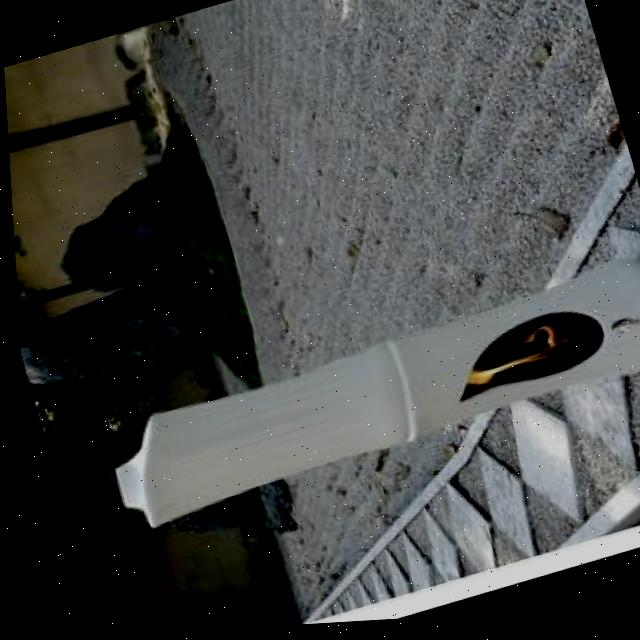Fire: (455, 311, 600, 401)
